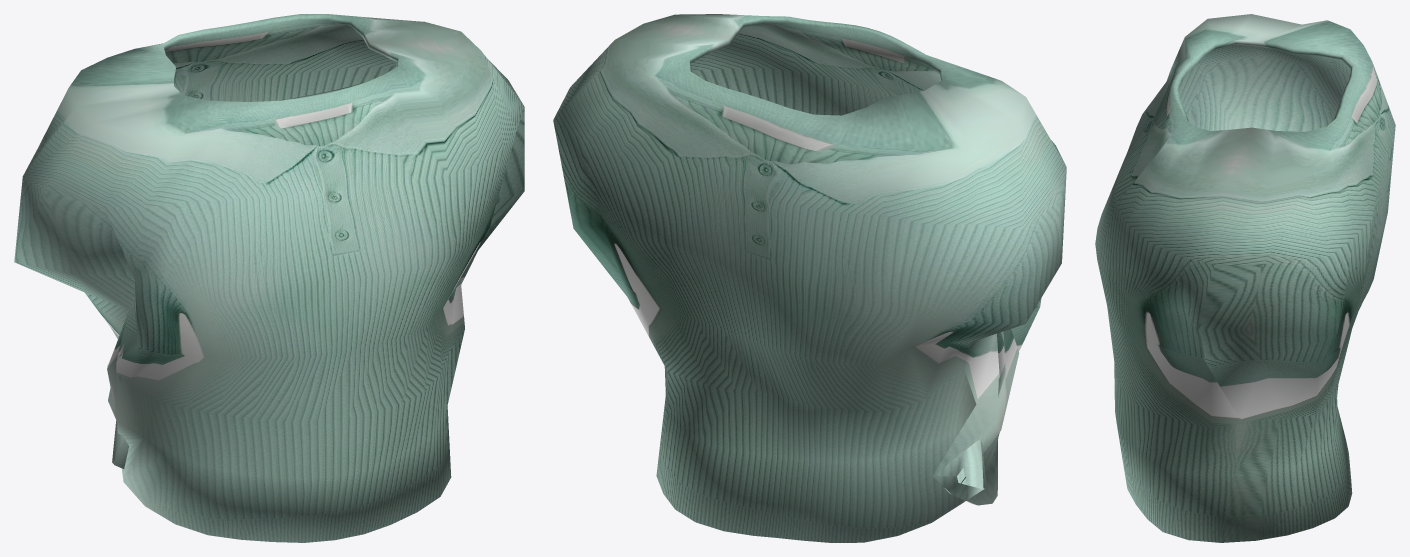
3 renders of one model, left to right at view 1: azimuth 30°, elevation 25°; view 2: azimuth 150°, elevation 25°; view 3: azimuth 270°, elevation 25°, orthographic. The views are drawn at different scales.
Visible parts, largest first — view 1: garment; view 2: garment; view 3: garment.
Boxes of the visible parts, x1=… form: garment: x1=14, y1=14, x2=524, y2=542; garment: x1=553, y1=14, x2=1066, y2=542; garment: x1=1095, y1=14, x2=1395, y2=542.
Bounding box in the file's own units: 0.5467 × 0.4804 × 0.3291.
1 material, 1 textured.
